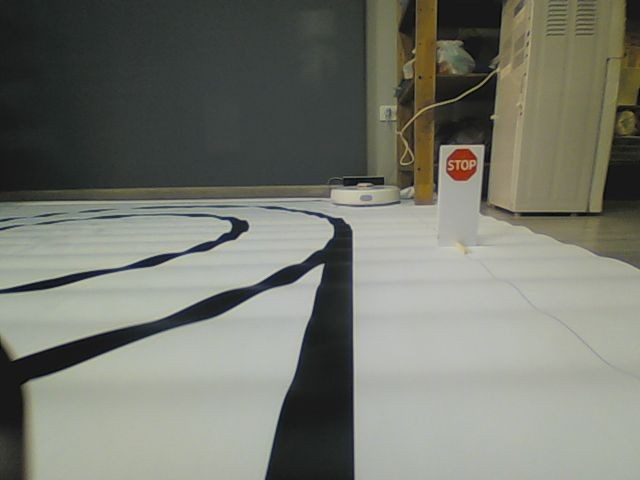Stop: (444, 148, 479, 182)
